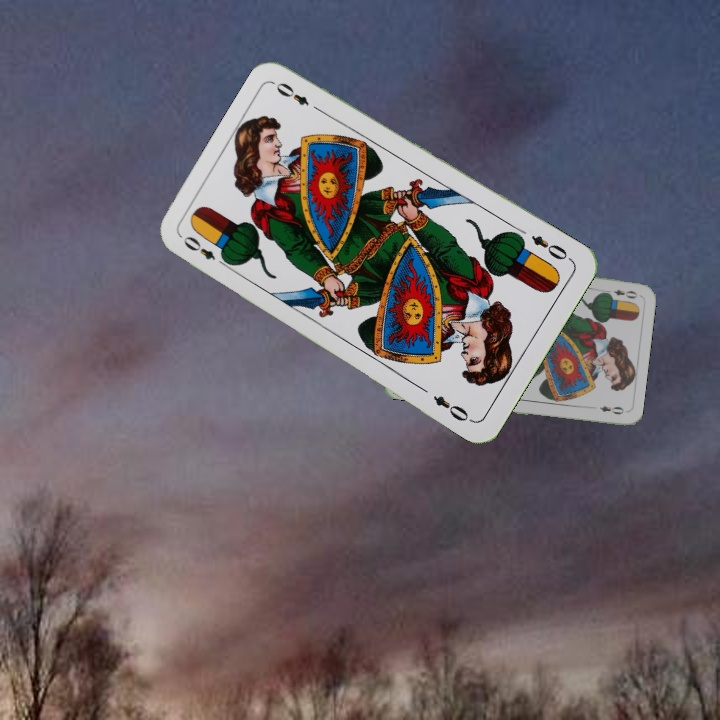EO: (179, 231, 231, 270), (527, 231, 575, 264), (600, 285, 640, 301)
